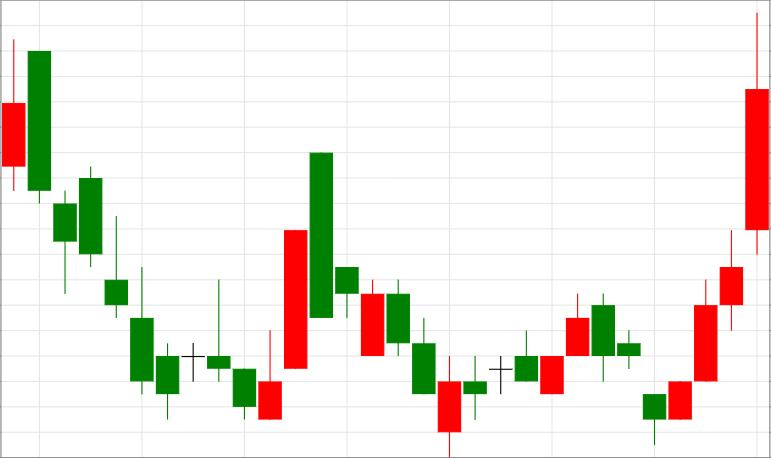inverse_hammer_rise: (28, 51, 282, 420)
three_white_soldiers_rise: (592, 231, 743, 445)
